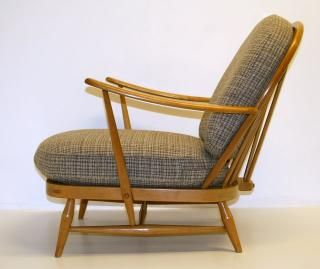chairs: (32, 14, 304, 258)
